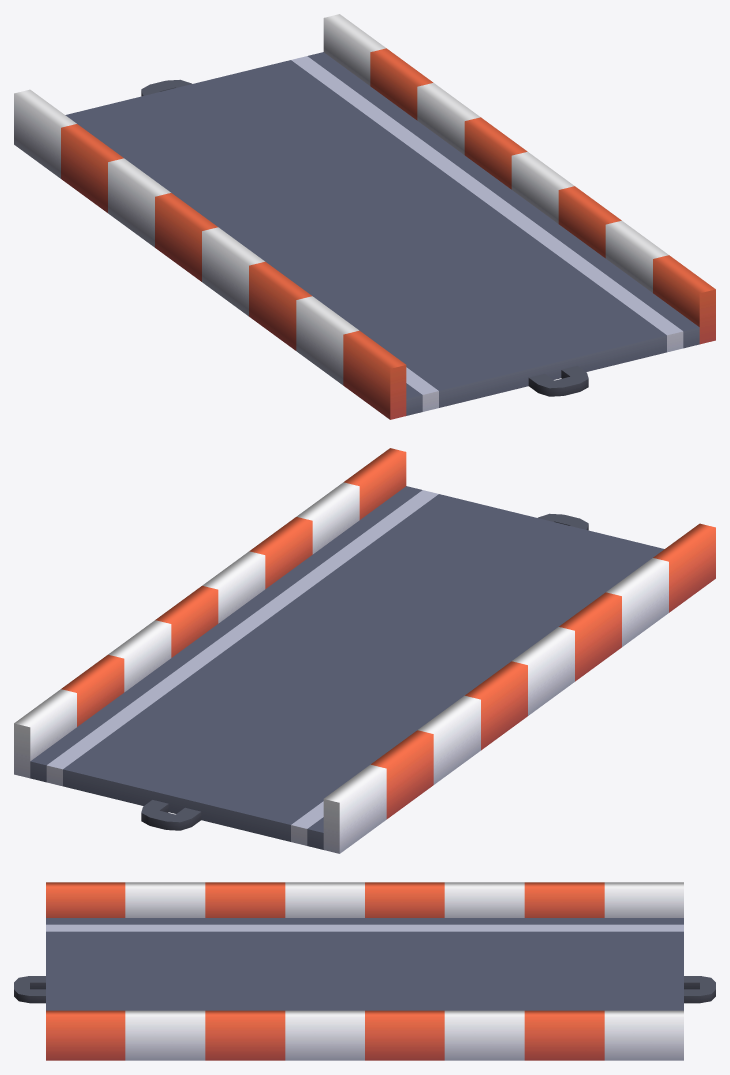
The model's file is kenney-toy-car-track-road-wide-straight.glb.
3 renders of one model, top to bottom at view 1: azimuth 30°, elevation 25°; view 2: azimuth 150°, elevation 25°; view 3: azimuth 270°, elevation 25°, orthographic. The views are drawn at different scales.
Parts seen in each view (by area): view 1: track-road-wide-straight; view 2: track-road-wide-straight; view 3: track-road-wide-straight.
Boxes of the visible parts, x1,y1,x2,y2 form: track-road-wide-straight: (14, 14, 715, 419); track-road-wide-straight: (14, 448, 715, 853); track-road-wide-straight: (14, 882, 715, 1060).
Size of the model in its own units: 2 by 0.2997 by 4.4.
Materials: 1 (1 with a texture image).
